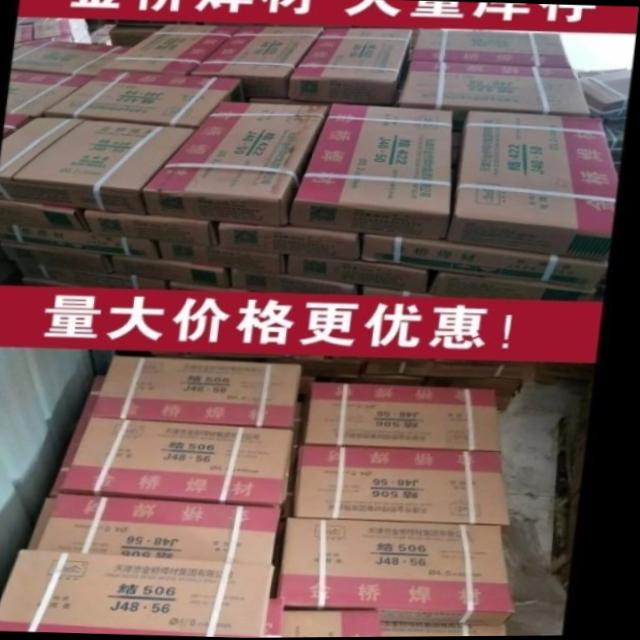box: (286, 518, 527, 627), (451, 112, 621, 261), (0, 551, 285, 638), (146, 101, 332, 226), (293, 103, 454, 240), (69, 418, 302, 507), (0, 116, 197, 215), (301, 445, 520, 525), (44, 494, 290, 563), (99, 355, 309, 428), (307, 383, 510, 452), (399, 61, 591, 132), (366, 235, 613, 290), (46, 70, 248, 128), (190, 25, 325, 97), (291, 27, 413, 105), (102, 24, 240, 75), (410, 28, 573, 68), (58, 375, 112, 495), (0, 224, 165, 260), (222, 222, 366, 261), (290, 255, 432, 294), (87, 210, 223, 245), (432, 273, 602, 300), (13, 39, 131, 76), (162, 240, 289, 274), (10, 70, 95, 117), (21, 263, 171, 289), (116, 256, 237, 288), (371, 359, 544, 381), (6, 242, 117, 273), (236, 269, 361, 295), (563, 410, 596, 500), (0, 200, 95, 230), (295, 610, 392, 638), (579, 70, 633, 119), (560, 493, 589, 571), (274, 358, 369, 378), (391, 623, 519, 637), (437, 378, 528, 396), (38, 498, 64, 549), (4, 111, 37, 141), (368, 285, 441, 298), (110, 28, 157, 46), (276, 597, 296, 638), (604, 120, 626, 154), (27, 276, 94, 287), (35, 19, 73, 38), (367, 375, 430, 385), (90, 24, 114, 44), (72, 22, 90, 40), (173, 283, 226, 289), (16, 23, 32, 41), (504, 397, 519, 413), (69, 18, 85, 29), (80, 33, 92, 44)
